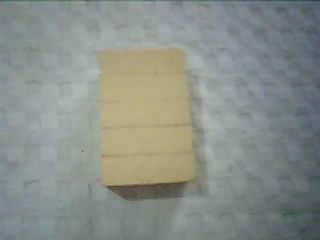lego: (94, 42, 200, 192)
